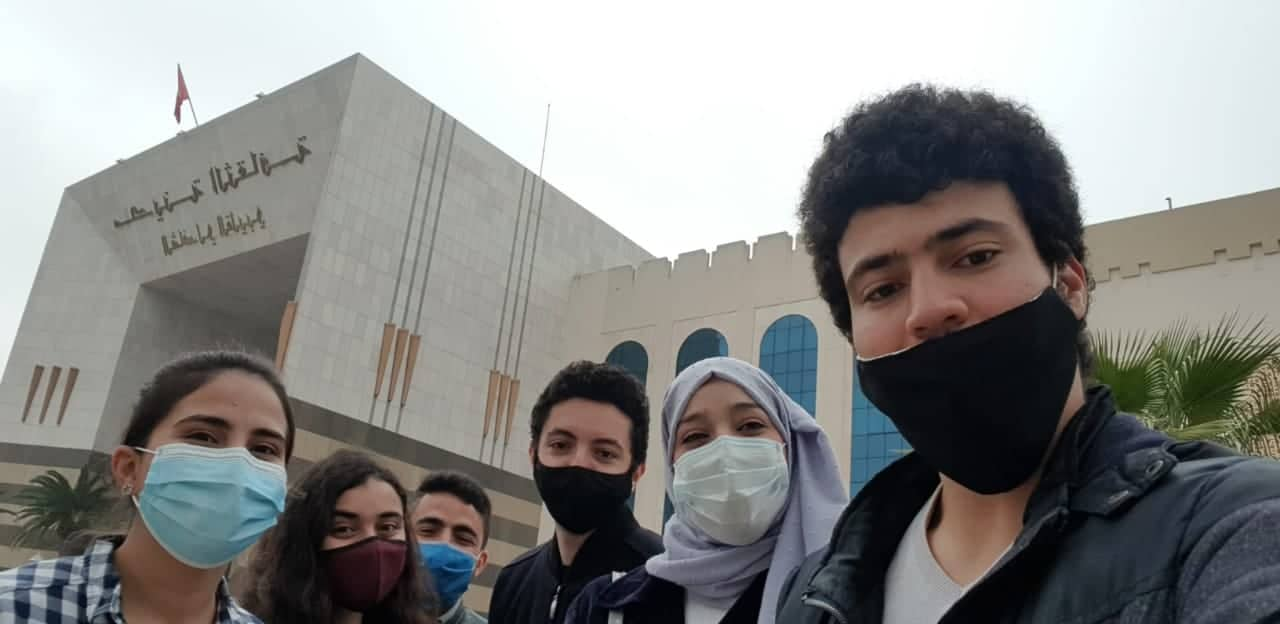mask_weared_incorrect: (828, 220, 1091, 448)
